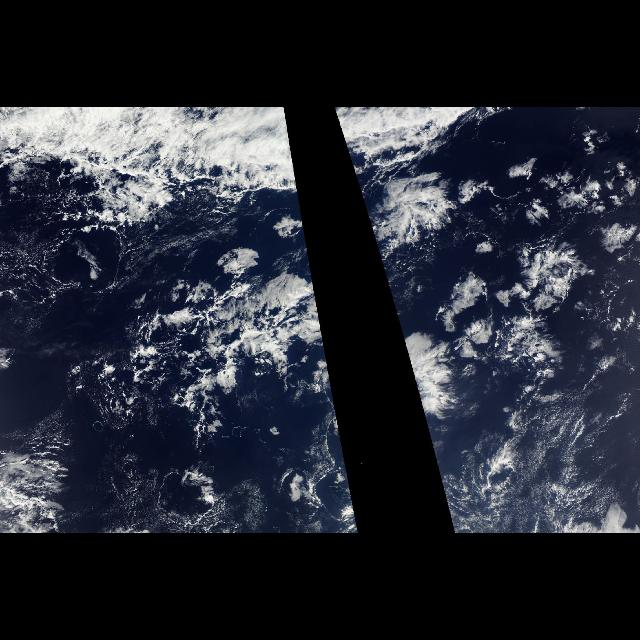Flower: (360, 190, 630, 496), (321, 322, 354, 496)
Sugar: (484, 403, 618, 529)
